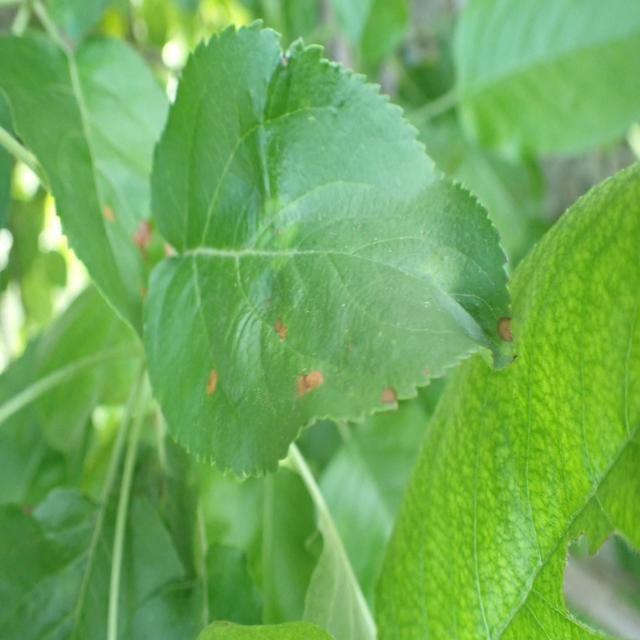Black Rot: (374, 382, 405, 432), (292, 366, 325, 404), (265, 309, 294, 351), (498, 304, 519, 362), (201, 357, 226, 397)
